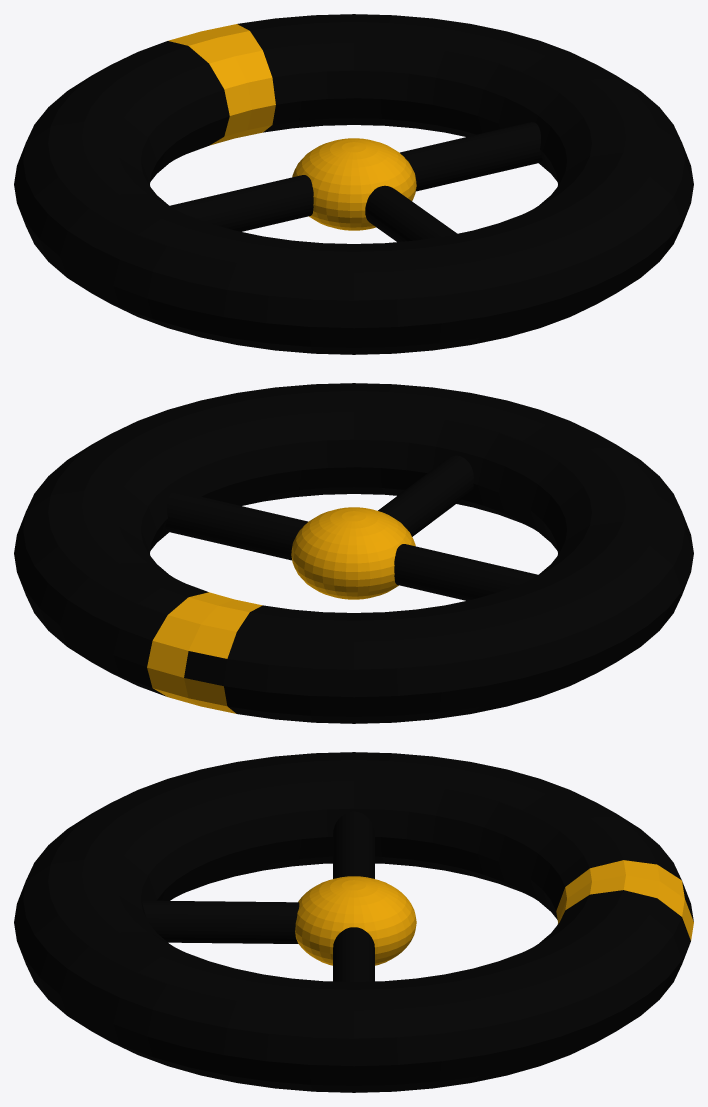
The model's file is steering-wheel.fbx.
3 views of the same model, one above another, from view 1: azimuth 30°, elevation 25°; view 2: azimuth 150°, elevation 25°; view 3: azimuth 270°, elevation 25° (orthographic).
Visible parts, largest first — view 1: Torus, Cylinder, Sphere, Cylinder.001; view 2: Torus, Cylinder, Sphere, Cylinder.001; view 3: Torus, Sphere, Cylinder.001, Cylinder.
Part boxes in pixels (left/top/right/bottom): Torus: left=14, top=14, right=693, bottom=354; Cylinder: left=169, top=122, right=542, bottom=231; Sphere: left=292, top=138, right=416, bottom=230; Cylinder.001: left=365, top=185, right=457, bottom=241; Torus: left=14, top=383, right=693, bottom=723; Cylinder: left=165, top=491, right=538, bottom=600; Sphere: left=291, top=507, right=415, bottom=599; Cylinder.001: left=378, top=455, right=473, bottom=536; Torus: left=14, top=752, right=693, bottom=1092; Sphere: left=295, top=876, right=416, bottom=965; Cylinder.001: left=142, top=900, right=299, bottom=943; Cylinder: left=333, top=811, right=374, bottom=981.
Bounding box in the file's own units: 325 × 50 × 325.
